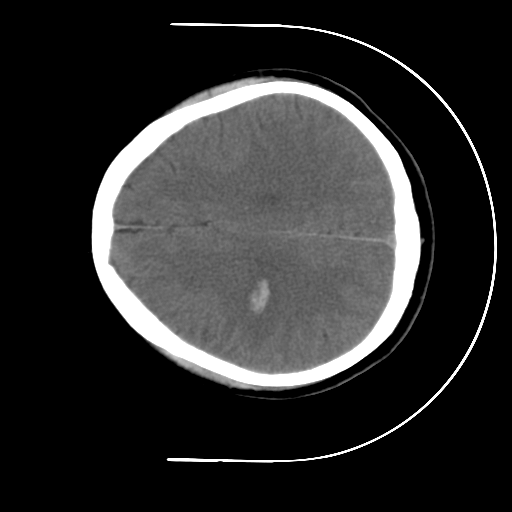a: (238, 267, 281, 324)
